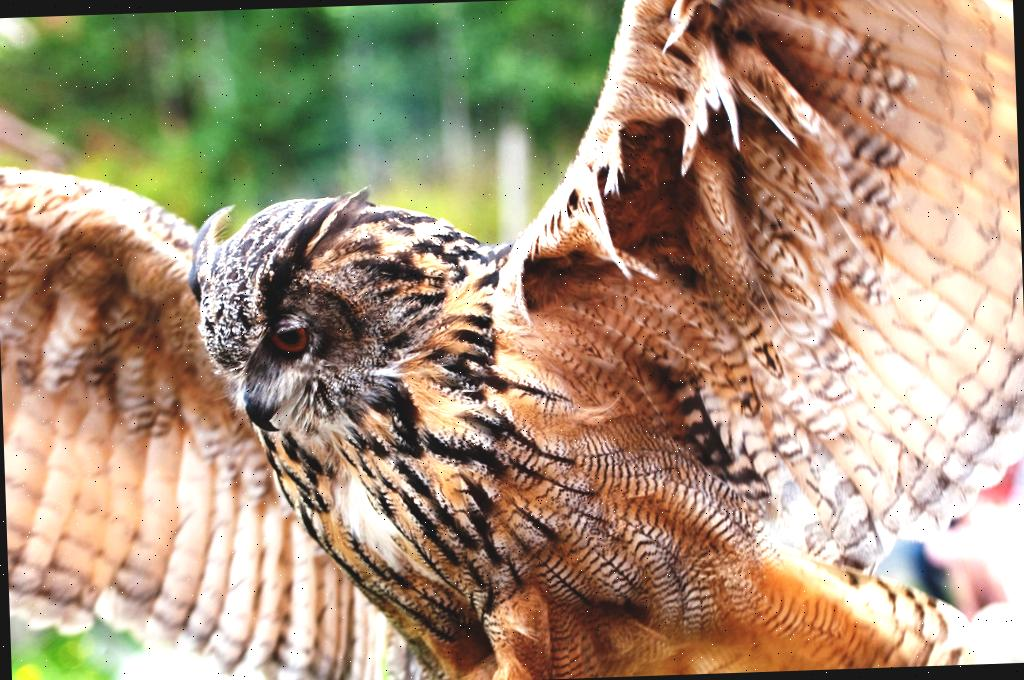Owl: (117, 110, 884, 672)
